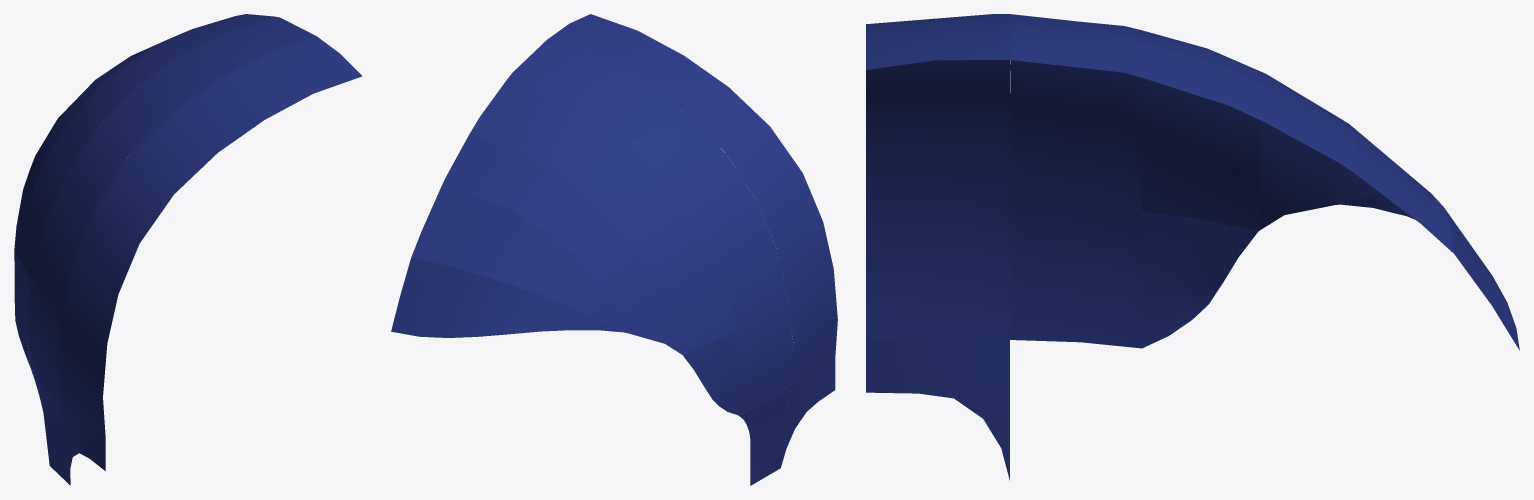
Rendered from Front_left_helm_4_#.fbx.
3 renders of one model, left to right at view 1: azimuth 30°, elevation 25°; view 2: azimuth 150°, elevation 25°; view 3: azimuth 270°, elevation 25°, orthographic. The views are drawn at different scales.
Parts seen in each view (by area): view 1: Front_left_helm_5_1, Front_left_helm_5_3, Front_left_helm_5_5, Front_left_helm_5_7, Front_left_helm_5_4, Front_left_helm_5_2, Front_left_helm_5_6; view 2: Front_left_helm_5_3, Front_left_helm_5_1, Front_left_helm_5_5, Front_left_helm_5_7, Front_left_helm_5_8, Front_left_helm_5_9, Front_left_helm_5_6, Front_left_helm_5_4, Front_left_helm_5_2; view 3: Front_left_helm_5_1, Front_left_helm_5_3, Front_left_helm_5_5, Front_left_helm_5_7, Front_left_helm_5_2, Front_left_helm_5_6, Front_left_helm_5_8, Front_left_helm_5_9.
Boxes of the visible parts, x1=… form: Front_left_helm_5_1: x1=56, y1=36, x2=362, y2=436; Front_left_helm_5_3: x1=26, y1=16, x2=315, y2=402; Front_left_helm_5_5: x1=14, y1=14, x2=273, y2=279; Front_left_helm_5_7: x1=14, y1=31, x2=186, y2=249; Front_left_helm_5_4: x1=31, y1=369, x2=70, y2=485; Front_left_helm_5_2: x1=60, y1=403, x2=105, y2=483; Front_left_helm_5_6: x1=14, y1=251, x2=31, y2=367; Front_left_helm_5_3: x1=506, y1=40, x2=793, y2=414; Front_left_helm_5_1: x1=547, y1=14, x2=837, y2=388; Front_left_helm_5_5: x1=469, y1=81, x2=736, y2=354; Front_left_helm_5_7: x1=442, y1=134, x2=682, y2=354; Front_left_helm_5_8: x1=411, y1=186, x2=627, y2=332; Front_left_helm_5_9: x1=391, y1=257, x2=622, y2=337; Front_left_helm_5_6: x1=683, y1=331, x2=741, y2=414; Front_left_helm_5_4: x1=738, y1=389, x2=790, y2=485; Front_left_helm_5_2: x1=781, y1=357, x2=835, y2=466; Front_left_helm_5_1: x1=866, y1=14, x2=1010, y2=340; Front_left_helm_5_3: x1=1010, y1=14, x2=1143, y2=348; Front_left_helm_5_5: x1=1142, y1=30, x2=1265, y2=230; Front_left_helm_5_7: x1=1258, y1=74, x2=1354, y2=230; Front_left_helm_5_2: x1=866, y1=339, x2=1009, y2=480; Front_left_helm_5_6: x1=1142, y1=212, x2=1258, y2=348; Front_left_helm_5_8: x1=1335, y1=124, x2=1453, y2=253; Front_left_helm_5_9: x1=1341, y1=192, x2=1519, y2=350.
Size of the model in its own units: 9.27 by 13.26 by 12.9.
